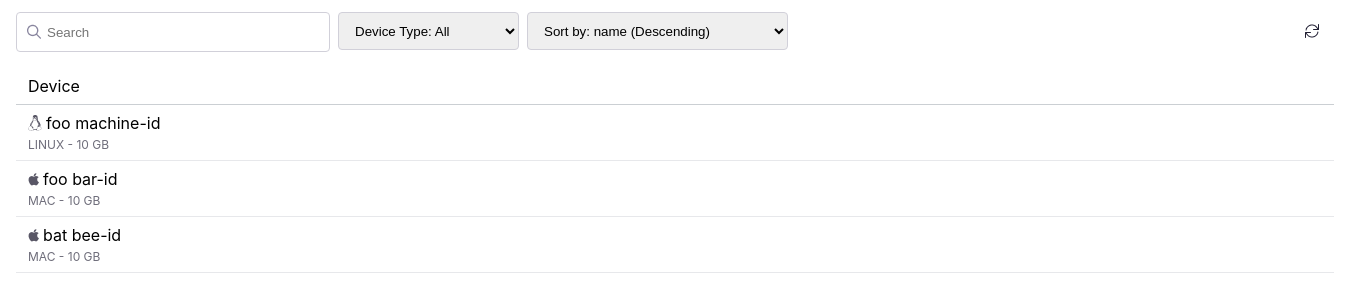
Test: DevicesTable › should handle multiple filters
The width and height of the screenshot is (1351, 290).
Step 1. Select "Device Type: Mac" in the dropdown with test id "device-select" → (428, 31), box [338,12,519,50]
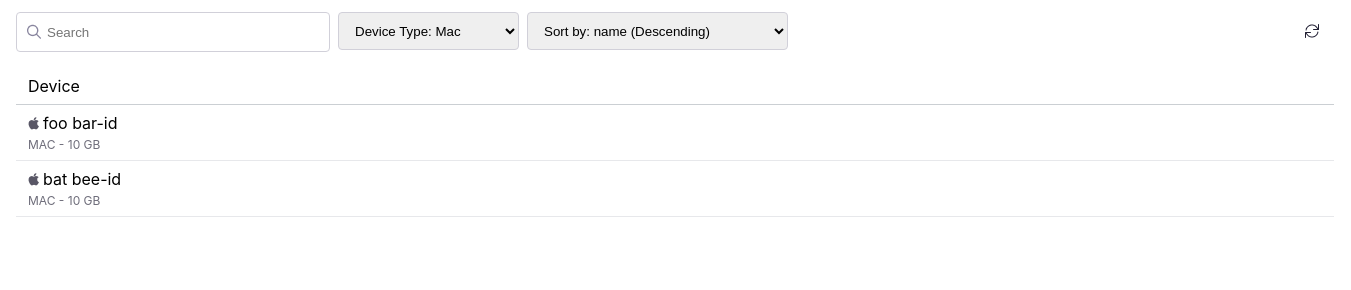
Expected: the text "foo machine-id" is gone
Expected: the text "foo bar-id" is shown, [43,113,118,133]
Step 2. Type "foo" into the field with placeholder "Search" → (173, 32), box [16,12,330,52]
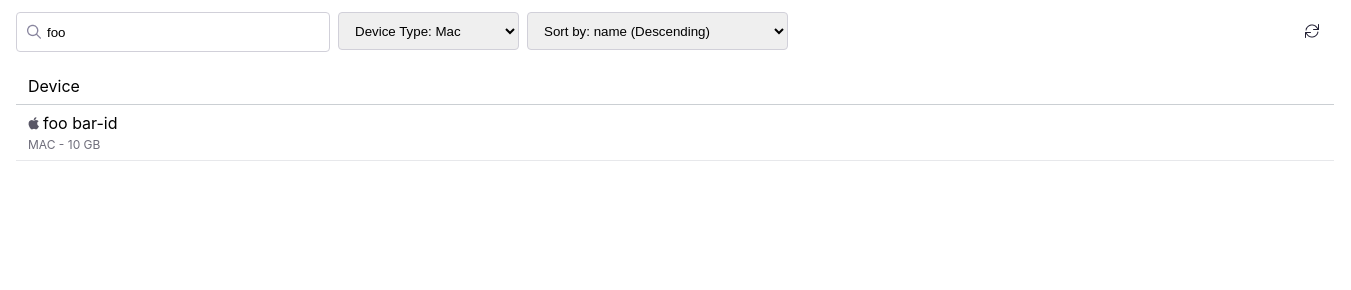
Expected: the text "foo bar-id" is shown, [43,113,118,133]
Expected: the text "bat bee-id" is gone
